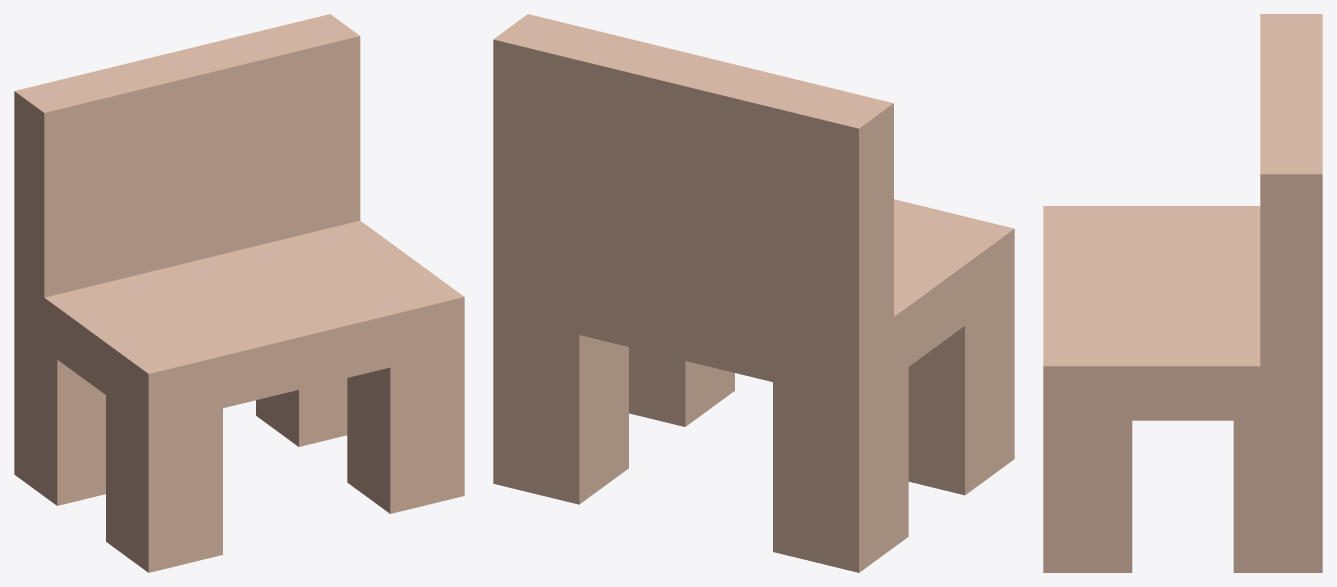
File: Kursi.fbx
3 renders of one model, left to right at view 1: azimuth 30°, elevation 25°; view 2: azimuth 150°, elevation 25°; view 3: azimuth 270°, elevation 25°, orthographic. The views are drawn at different scales.
Parts seen in each view (by area): view 1: Kursi; view 2: Kursi; view 3: Kursi.
Part boxes in pixels (x1,y1,x2,y2): Kursi: (14, 14, 464, 572); Kursi: (493, 14, 1014, 572); Kursi: (1043, 14, 1322, 572).
Size of the model in its own units: 60.73 by 70.47 by 44.75.
